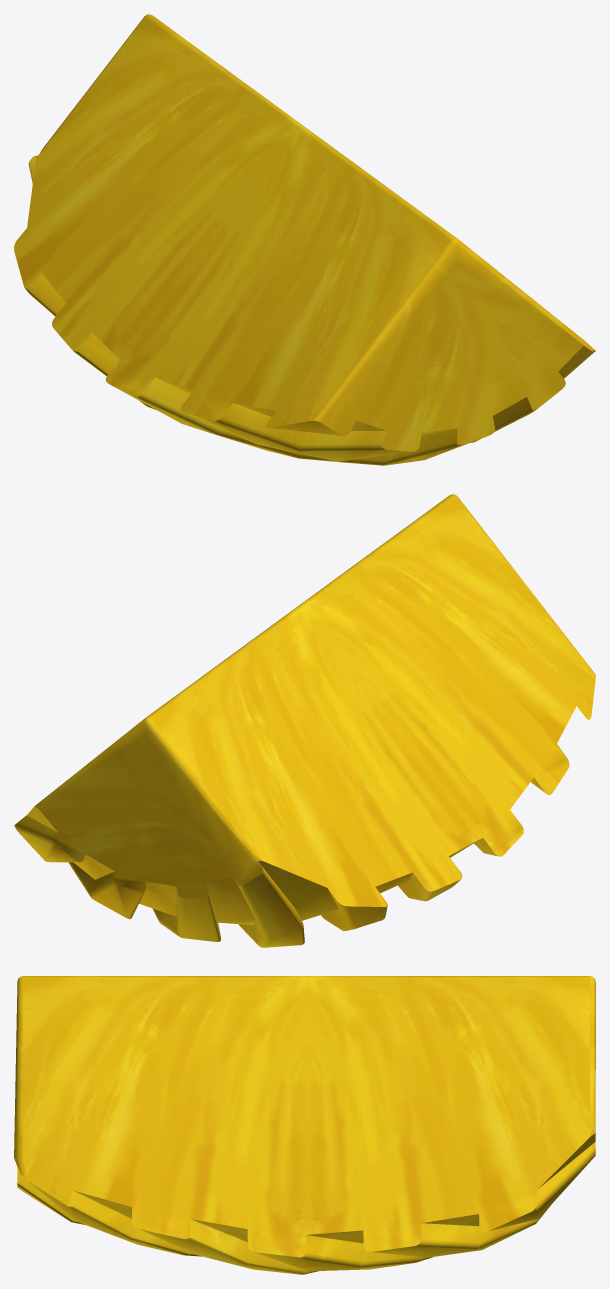
The model's file is pineapple.fbx.
3 views of the same model, one above another, from view 1: azimuth 30°, elevation 25°; view 2: azimuth 150°, elevation 25°; view 3: azimuth 270°, elevation 25° (orthographic). The views are drawn at different scales.
Visible parts, largest first — view 1: Cylinder; view 2: Cylinder; view 3: Cylinder.
Boxes of the visible parts, x1,y1,x2,y2 form: Cylinder: (14,14,595,465); Cylinder: (14,494,595,947); Cylinder: (14,976,595,1274).
Bounding box in the file's own units: 153 × 108 × 210.
1 material, 1 textured.
